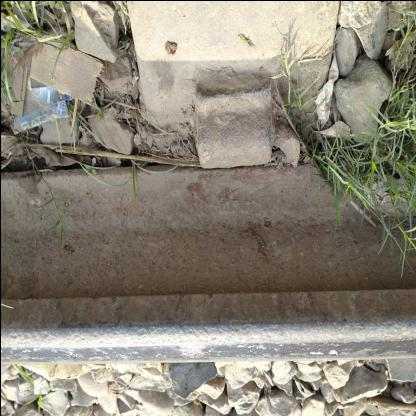Defective: (154, 61, 304, 201)
